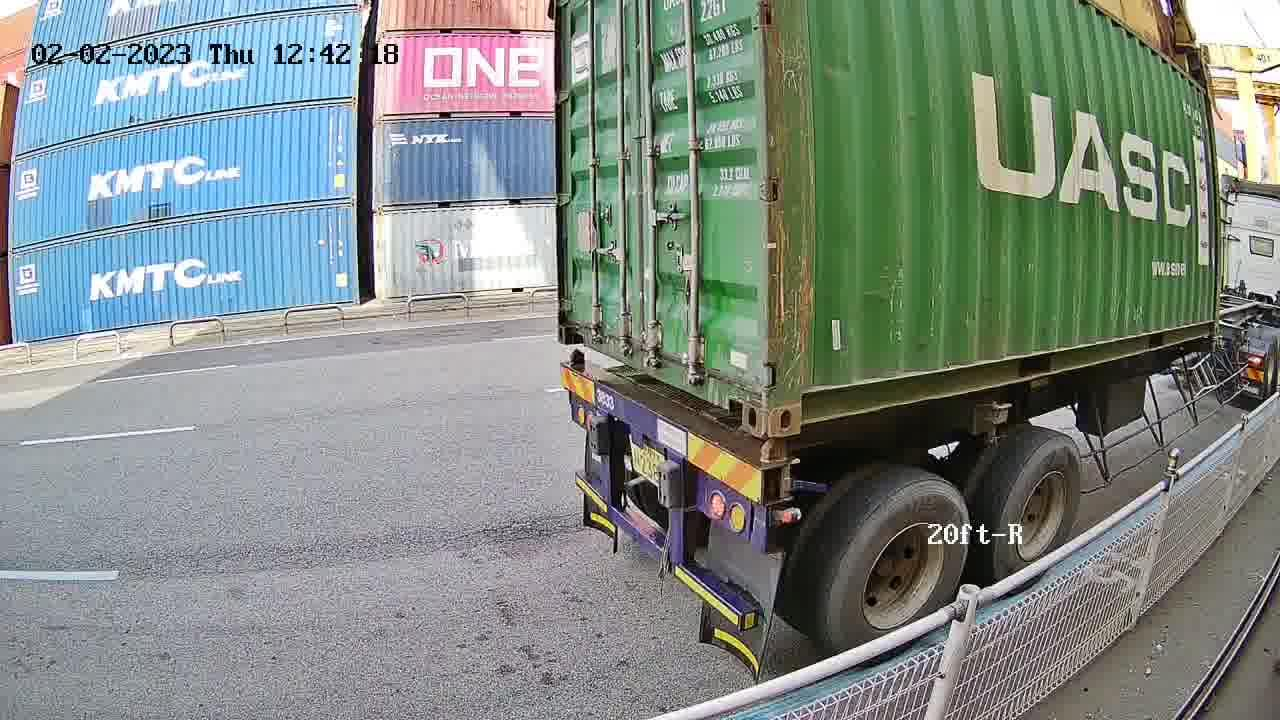Chassis: (560, 358, 788, 508)
Cone: (758, 441, 791, 502), (562, 349, 586, 362)
Hole_L: (764, 359, 833, 437), (555, 298, 597, 351)
Hole_R: (713, 353, 766, 438)
Tire: (828, 481, 969, 663), (993, 438, 1083, 593)
